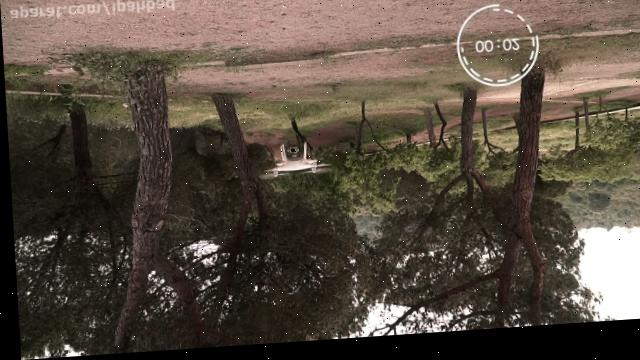drone: (259, 142, 331, 186)
